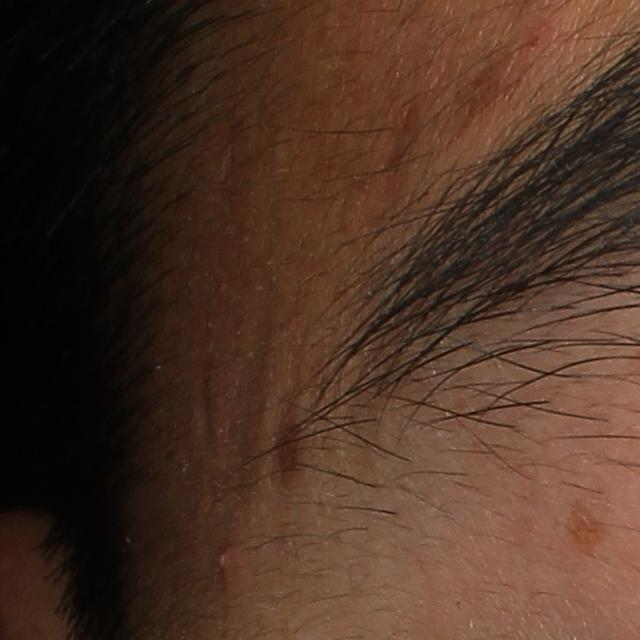papule: (203, 536, 248, 589)
